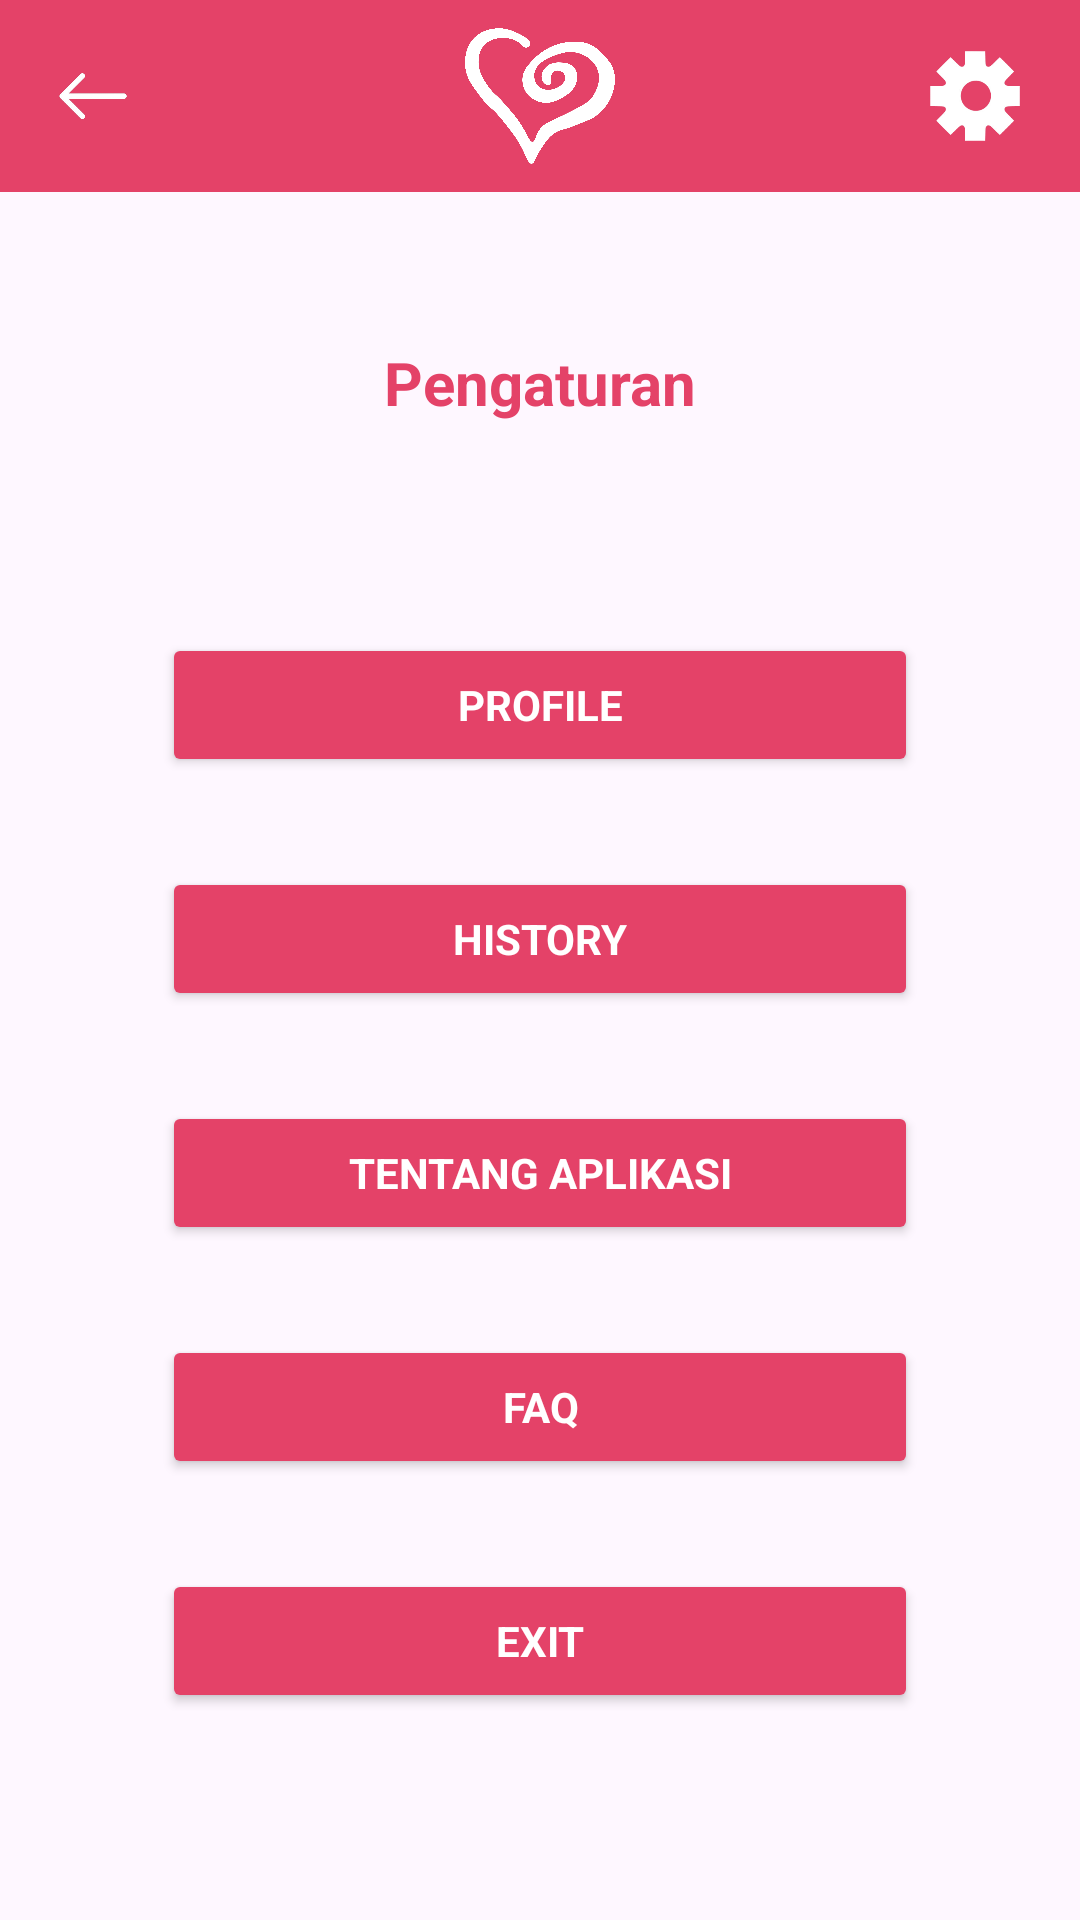

Locate icon controls on the screen. Image size 1080 x 1920, boxes as detection(x1, y1, x2, y2).
Back Button: detection(59, 73, 127, 119)
Settings Button: detection(930, 51, 1020, 141)
